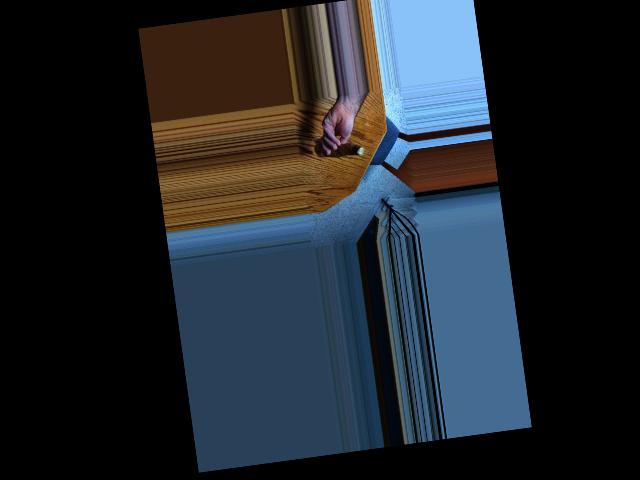sweet_potato: (314, 138, 369, 161)
